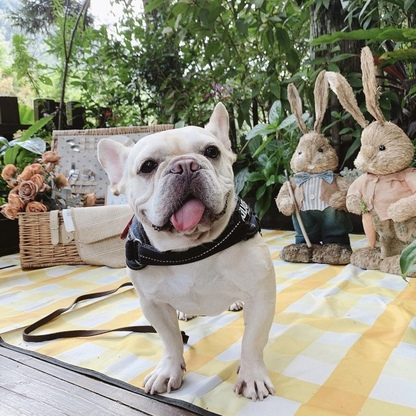bulldog: (94, 98, 278, 403)
